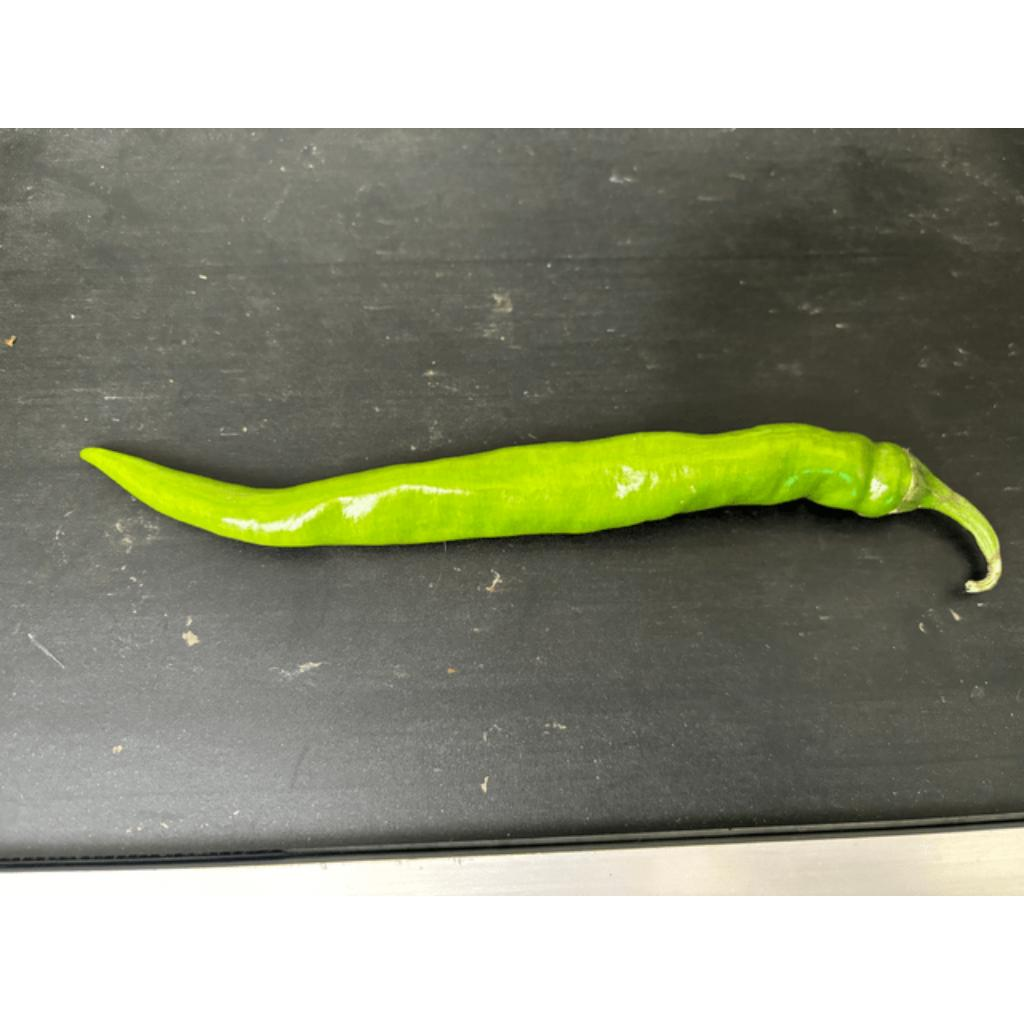chili: (75, 420, 938, 552)
